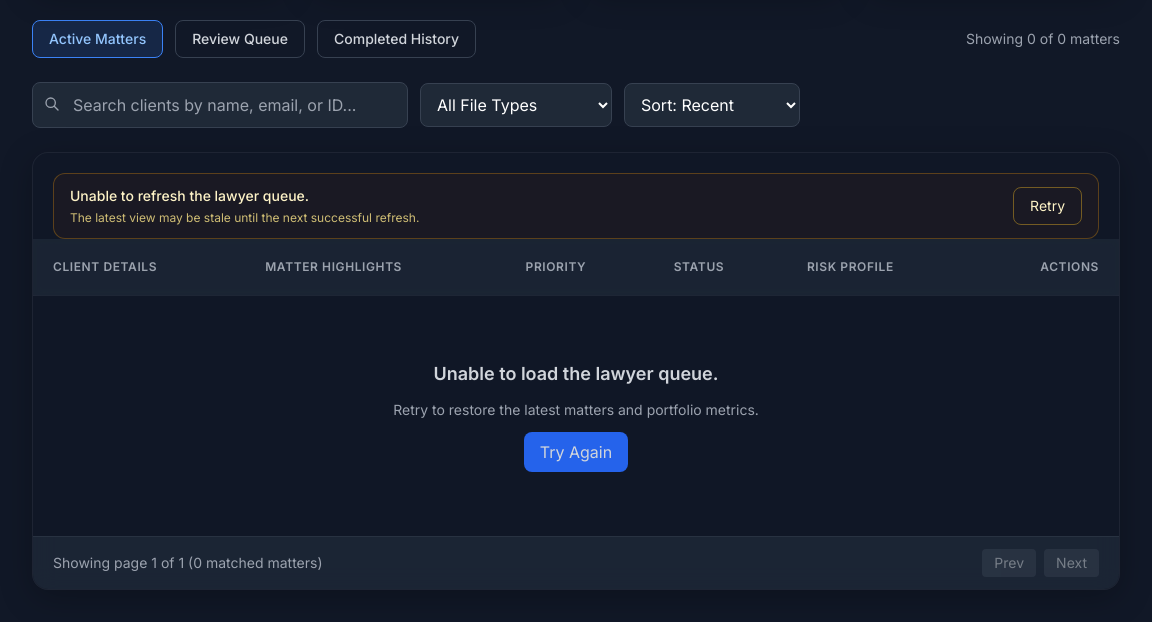
Scenario: LawyerDashboard › shows an inline retry state instead of collapsing fetch failure into the empty state
(page scrolled)
Click the button with id "lawyer-empty-retry" at point(576, 452), box [524, 432, 628, 472]
(page scrolled)
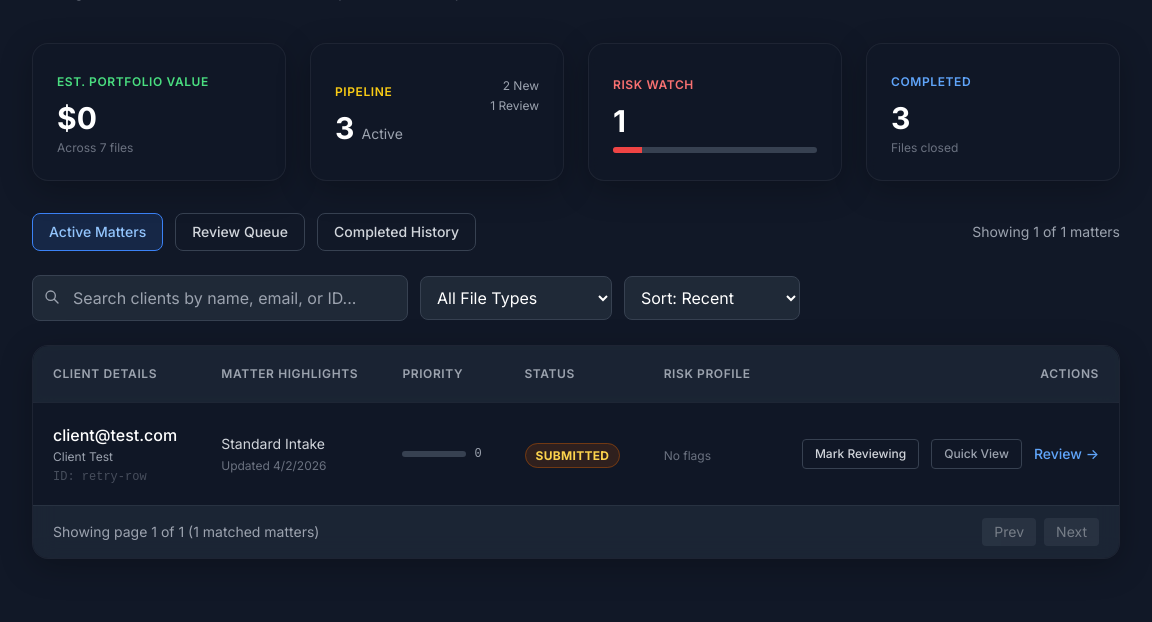
expect the text "client@test.com" is shown: met, box [53, 423, 181, 447]
